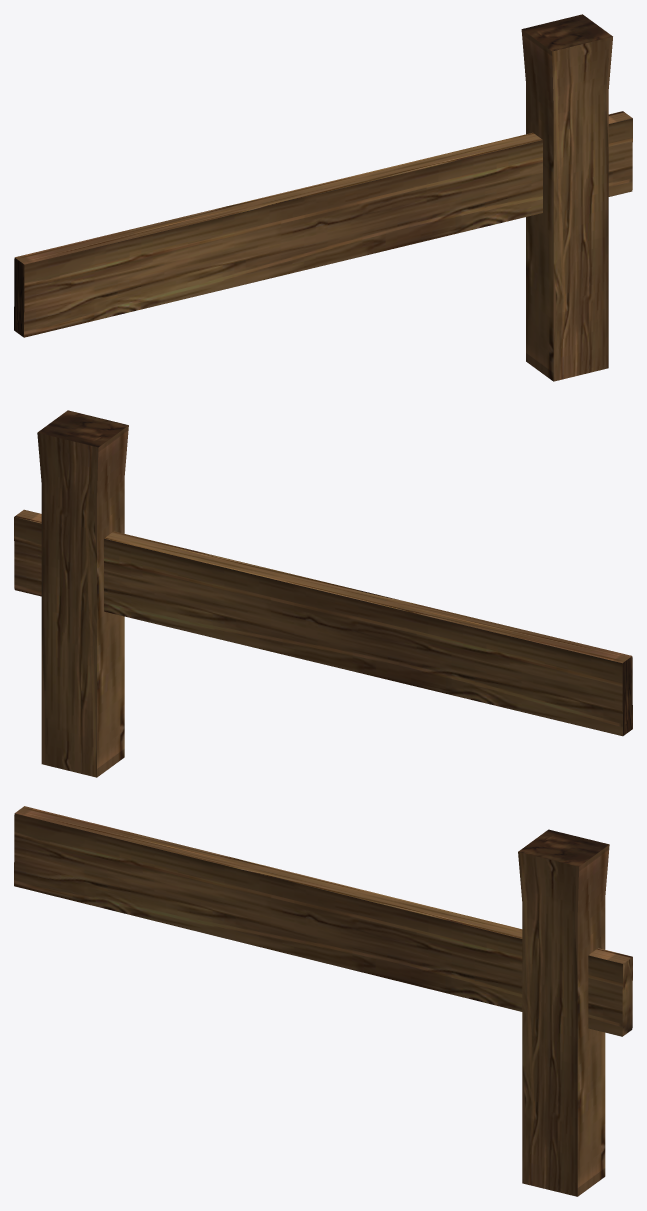
File: fanasty_mod_gro_fence06.fbx
3 views of the same model, one above another, from view 1: azimuth 30°, elevation 25°; view 2: azimuth 150°, elevation 25°; view 3: azimuth 330°, elevation 25° (orthographic).
Parts seen in each view (by area): view 1: gro_fence_06; view 2: gro_fence_06; view 3: gro_fence_06.
Part boxes in pixels (bbox=[...]): gro_fence_06: bbox=[14, 14, 632, 381]; gro_fence_06: bbox=[14, 410, 632, 777]; gro_fence_06: bbox=[14, 806, 632, 1196].
Bounding box in the file's own units: 1.42 × 0.7378 × 0.123.
